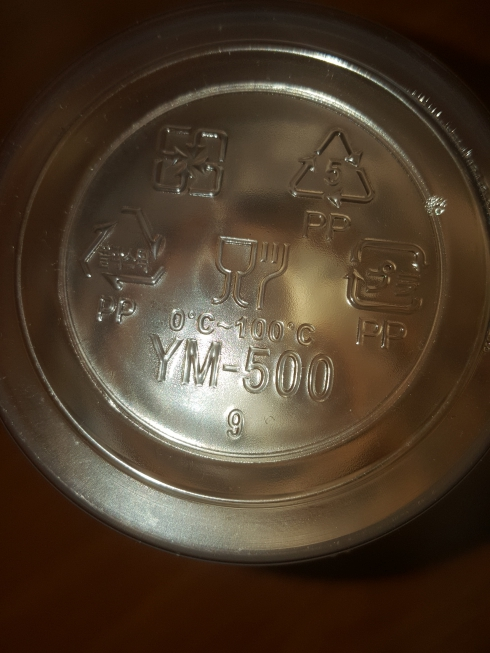recycle: (288, 101, 377, 249)
